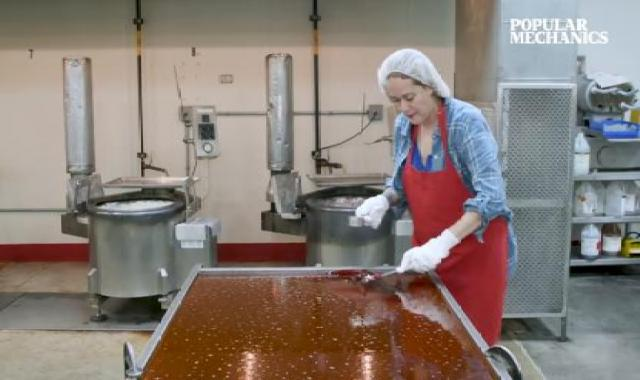hairnet: (382, 45, 452, 117)
